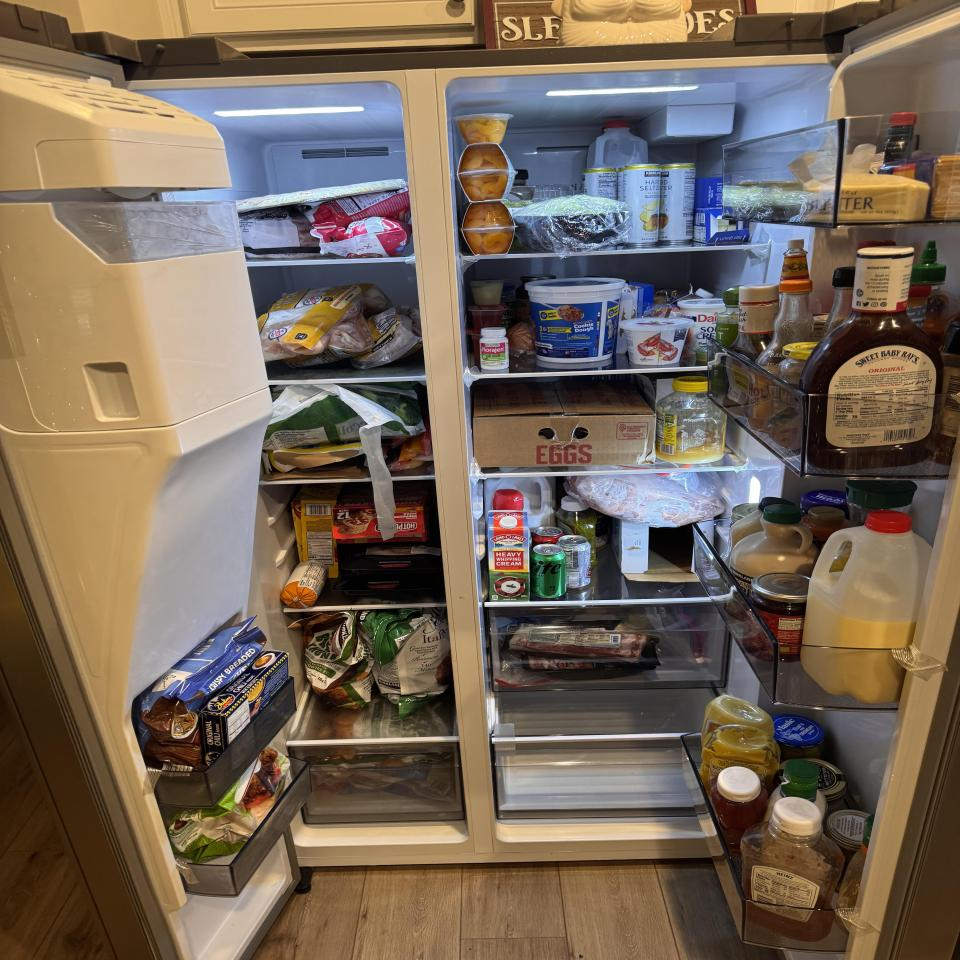Leche: (800, 510, 934, 704), (585, 120, 647, 169)
Mantequilla: (800, 172, 930, 221), (693, 208, 749, 244), (695, 178, 732, 208)
Yogur: (676, 298, 730, 362)
ketchup: (739, 797, 845, 942), (710, 766, 768, 858)
mustard: (699, 725, 779, 796), (700, 695, 776, 748)
